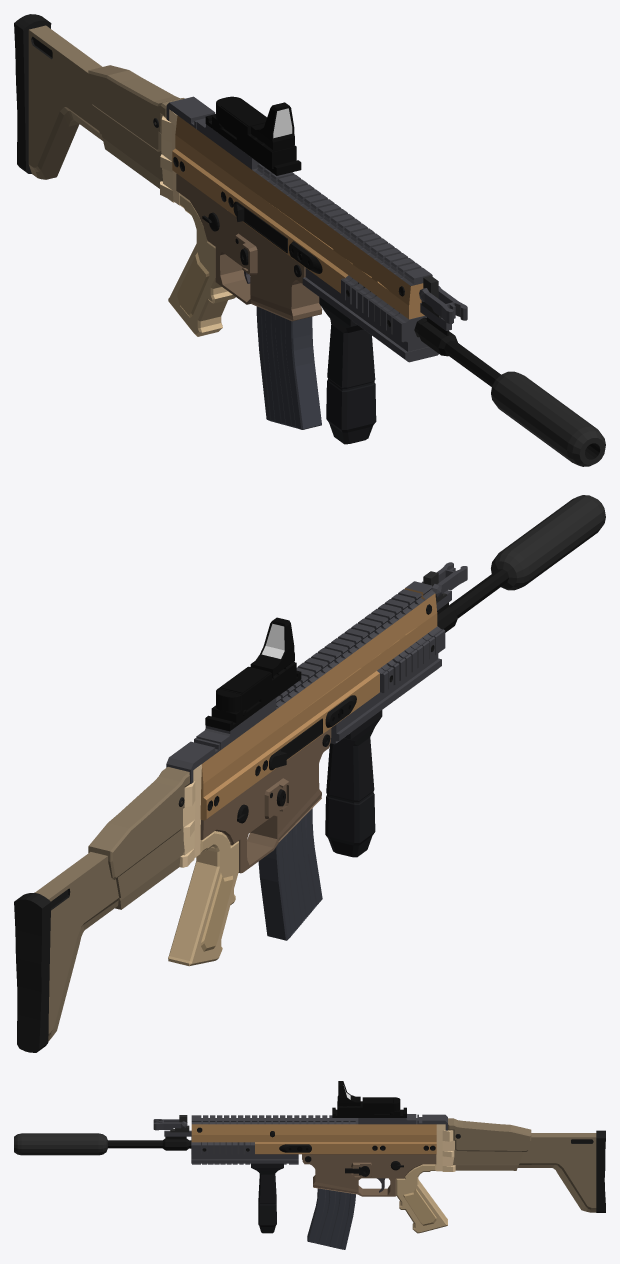
File: SCAR_L_Unity.fbx
3 views of the same model, one above another, from view 1: azimuth 30°, elevation 25°; view 2: azimuth 150°, elevation 25°; view 3: azimuth 270°, elevation 25° (orthographic). The views are drawn at different scales.
Parts seen in each view (by area): view 1: Scar_L, Scar_L.001; view 2: Scar_L, Scar_L.001; view 3: Scar_L, Scar_L.001.
Part boxes in pixels (x1,y1,x2,y2): Scar_L: (14,14,605,466); Scar_L.001: (256,306,321,429); Scar_L: (14,495,605,1052); Scar_L.001: (258,808,322,940); Scar_L: (14,1081,605,1233); Scar_L.001: (307,1188,355,1249).
Size of the model in its own units: 358 by 2078 by 6756.
